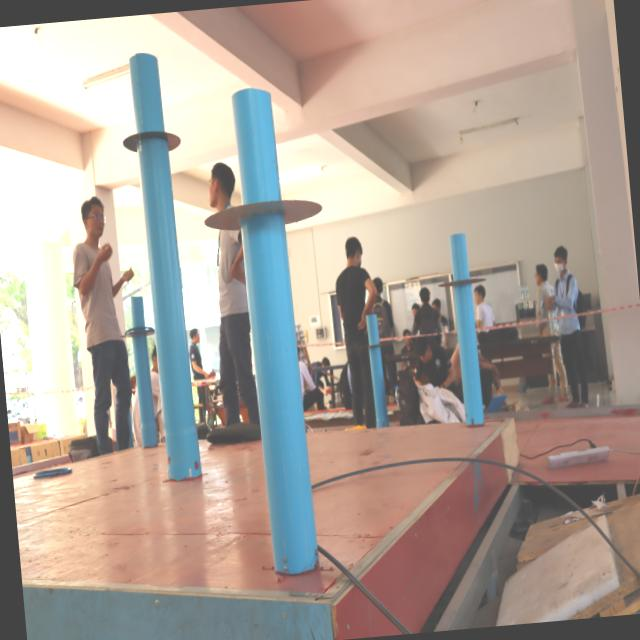pole: (198, 78, 330, 290), (103, 45, 191, 206), (434, 226, 486, 333), (122, 293, 160, 360), (356, 309, 388, 361)
